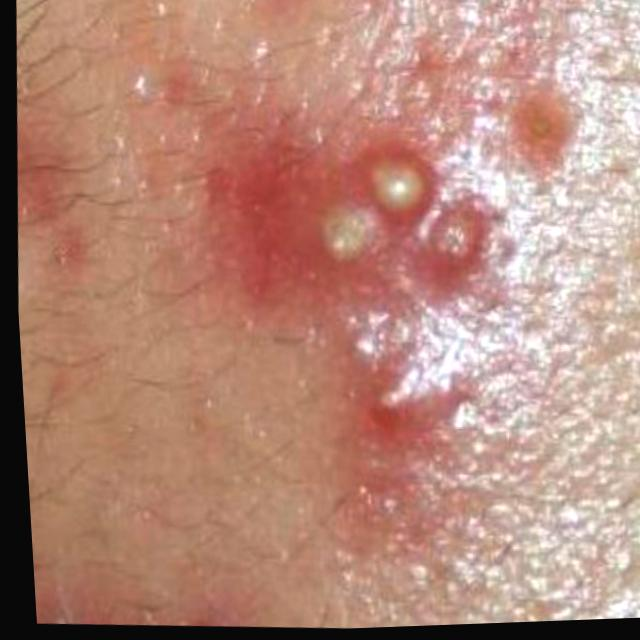pustule: (275, 110, 499, 333)
